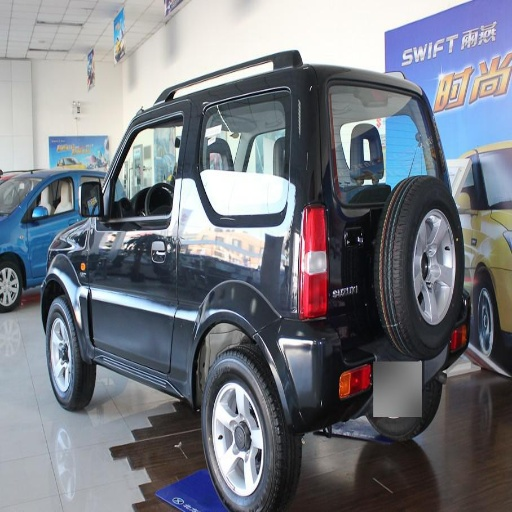back_left_door: (156, 134, 181, 227)
trunk: (288, 344, 328, 421)
